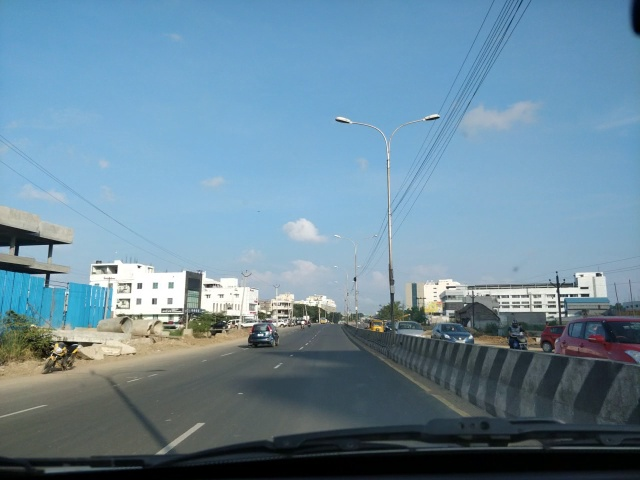auto: (365, 316, 383, 334), (320, 317, 326, 324)
car: (549, 307, 639, 398), (554, 318, 640, 364), (429, 319, 478, 361), (395, 316, 427, 352), (429, 323, 473, 346), (246, 321, 281, 347), (539, 323, 563, 353), (396, 319, 422, 337), (209, 319, 231, 331), (242, 318, 258, 327), (226, 319, 239, 328), (277, 319, 288, 328), (385, 319, 392, 331), (289, 319, 296, 326)
motorbike: (502, 304, 537, 374), (41, 341, 81, 373), (503, 324, 530, 350), (511, 335, 530, 351)
person: (506, 317, 529, 340), (301, 320, 305, 330), (308, 319, 311, 328)
